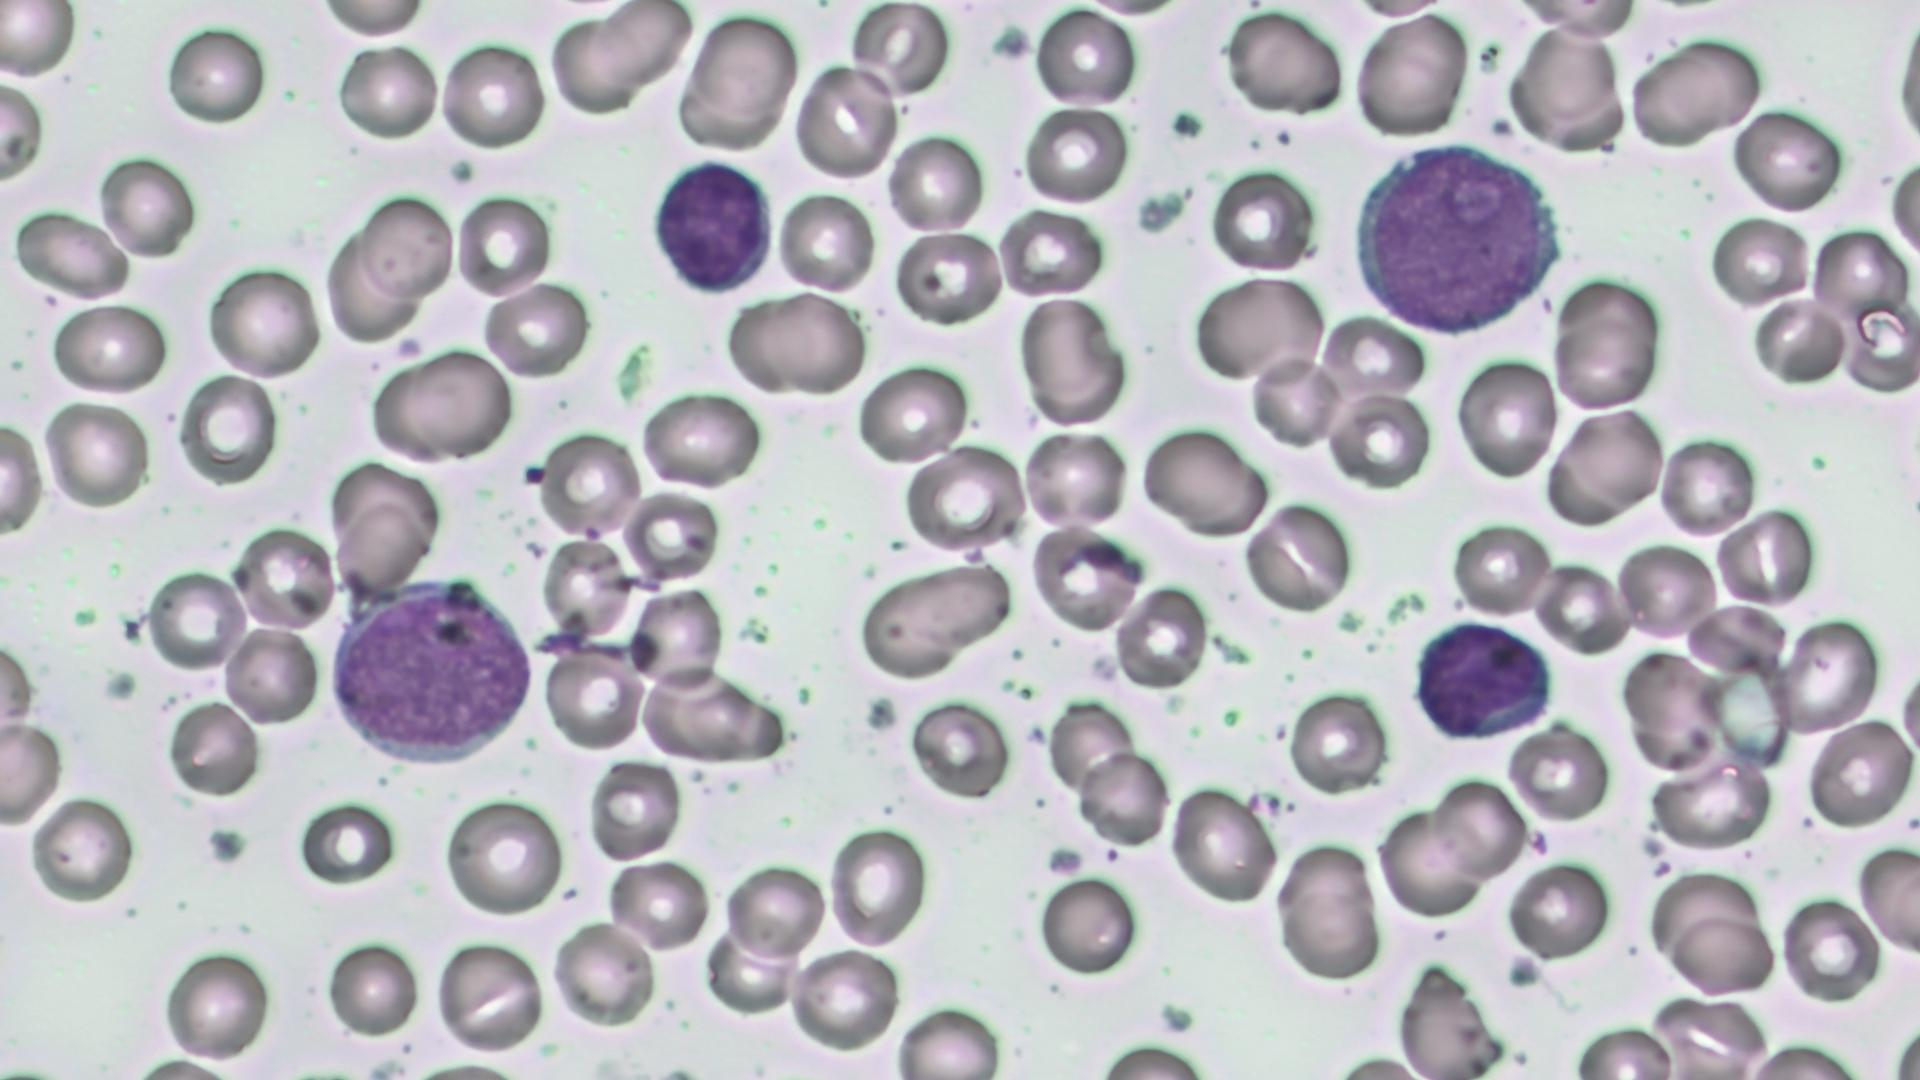Platelets: (203, 823, 251, 869), (990, 21, 1034, 63), (1502, 951, 1542, 993), (533, 628, 580, 657), (864, 694, 898, 729), (520, 460, 549, 488)
RBC: (856, 558, 1015, 680), (365, 345, 514, 465), (1187, 272, 1327, 386), (1629, 33, 1766, 146), (442, 794, 563, 920), (727, 291, 868, 400), (1274, 843, 1382, 984), (1350, 11, 1468, 138), (1138, 425, 1270, 538), (902, 442, 1027, 555), (1552, 280, 1658, 414), (634, 663, 770, 766), (206, 261, 322, 381), (161, 944, 276, 1065), (1168, 782, 1278, 909), (1455, 353, 1560, 483), (825, 822, 930, 951), (433, 935, 546, 1054), (1774, 612, 1882, 736), (1551, 404, 1665, 520), (40, 394, 152, 513), (1394, 961, 1509, 1076), (1804, 715, 1916, 832), (436, 36, 547, 153), (1647, 866, 1767, 975), (1244, 500, 1354, 616), (1222, 11, 1342, 117), (1727, 104, 1845, 212), (25, 794, 137, 906), (794, 61, 898, 181), (688, 11, 796, 125), (640, 388, 761, 489), (789, 945, 902, 1054), (856, 360, 971, 467), (1779, 890, 1884, 1006), (1647, 756, 1774, 852), (11, 206, 133, 305), (1207, 164, 1316, 274), (1029, 525, 1141, 633), (174, 371, 277, 487), (1021, 425, 1131, 531), (541, 427, 644, 542), (320, 225, 419, 344), (47, 301, 169, 397), (480, 277, 592, 381), (891, 225, 1005, 328), (553, 920, 657, 1030), (233, 524, 338, 633), (1505, 720, 1611, 825), (1030, 4, 1135, 111), (145, 564, 249, 673), (1375, 808, 1478, 918), (1017, 294, 1120, 402), (454, 190, 555, 299), (1808, 223, 1912, 328), (1506, 858, 1611, 963), (542, 646, 645, 753), (1509, 22, 1618, 123), (164, 22, 266, 128), (1451, 517, 1556, 620), (1036, 872, 1139, 977), (335, 41, 440, 144), (1022, 104, 1129, 206), (98, 152, 196, 261), (994, 204, 1106, 301), (848, 0, 951, 104), (1614, 541, 1720, 642), (1656, 433, 1758, 538), (626, 585, 727, 692), (774, 189, 874, 295), (549, 8, 646, 117), (1431, 773, 1527, 884), (1316, 310, 1429, 404), (909, 696, 1010, 800), (1325, 392, 1432, 491), (320, 934, 419, 1040), (1114, 584, 1211, 694), (723, 860, 829, 957), (585, 758, 683, 865), (360, 193, 454, 303), (886, 132, 985, 236), (1290, 686, 1386, 793), (603, 857, 709, 953), (291, 793, 400, 887), (1704, 214, 1812, 309), (1712, 506, 1816, 604), (223, 624, 320, 728), (538, 538, 634, 644), (165, 698, 260, 800), (621, 488, 720, 585), (1077, 746, 1171, 848), (1749, 294, 1851, 386), (890, 998, 1007, 1079), (1669, 911, 1778, 998), (1534, 560, 1629, 655), (334, 500, 431, 592), (1046, 698, 1135, 798), (1250, 353, 1342, 448), (1617, 644, 1713, 735), (1684, 600, 1789, 675), (1840, 297, 1917, 396), (1854, 839, 1920, 955), (0, 720, 63, 825), (0, 3, 78, 84), (1569, 1021, 1680, 1077), (0, 411, 46, 545), (0, 73, 44, 196), (1513, 0, 1640, 40), (0, 634, 37, 761), (314, 0, 429, 40)
WBC: (1346, 136, 1567, 339), (320, 571, 538, 770), (1410, 618, 1557, 744), (646, 153, 775, 295)
